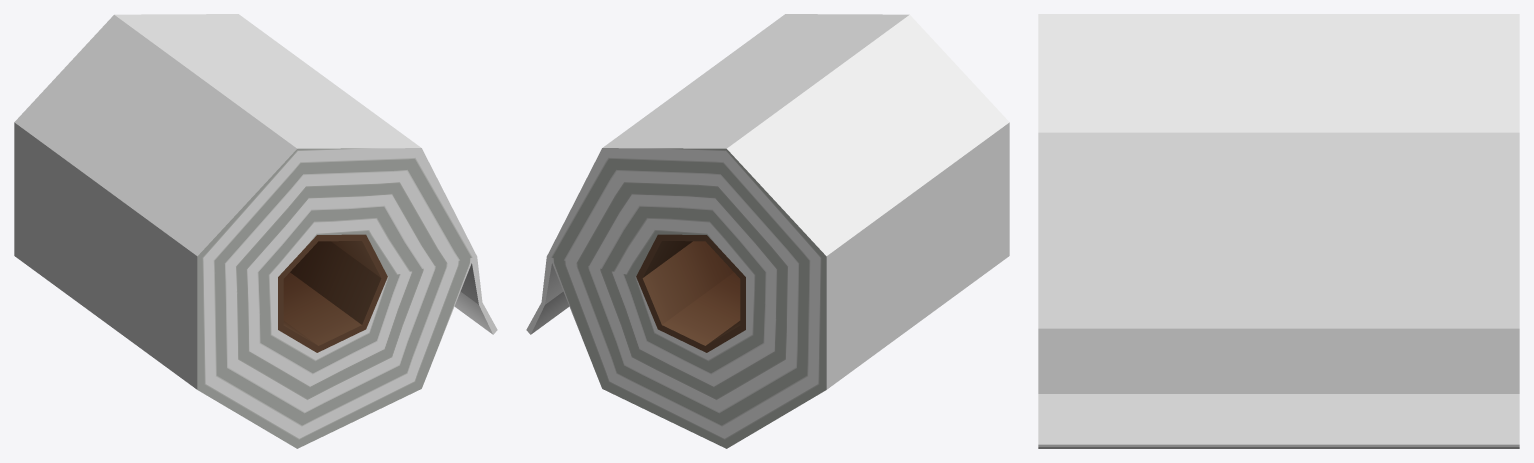
The model's file is Toiletpapier.fbx.
3 views of the same model, side by side, from view 1: azimuth 30°, elevation 25°; view 2: azimuth 150°, elevation 25°; view 3: azimuth 270°, elevation 25° (orthographic). The views are drawn at different scales.
Visible parts, largest first — view 1: ToiletPaper; view 2: ToiletPaper; view 3: ToiletPaper.
Part boxes in pixels (x1=…): ToiletPaper: x1=14, y1=14, x2=497, y2=448; ToiletPaper: x1=526, y1=14, x2=1009, y2=448; ToiletPaper: x1=1038, y1=14, x2=1519, y2=448.
Bounding box in the file's own units: 30.6 × 29.25 × 32.34.
